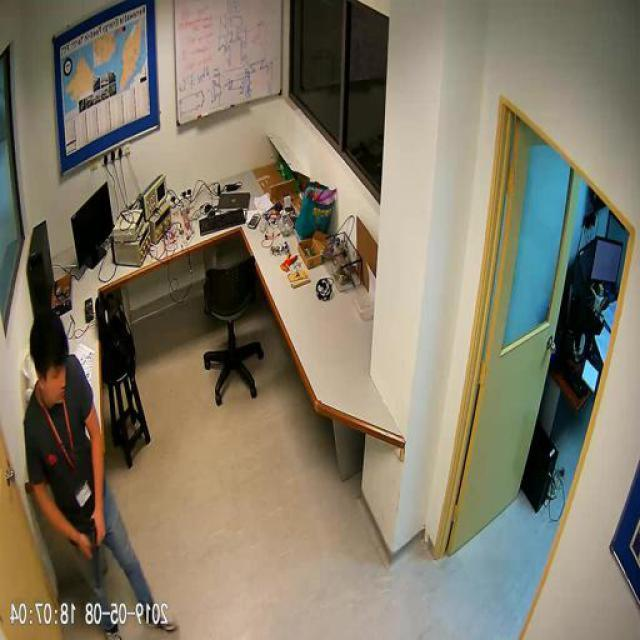weapon: (80, 516, 110, 589)
